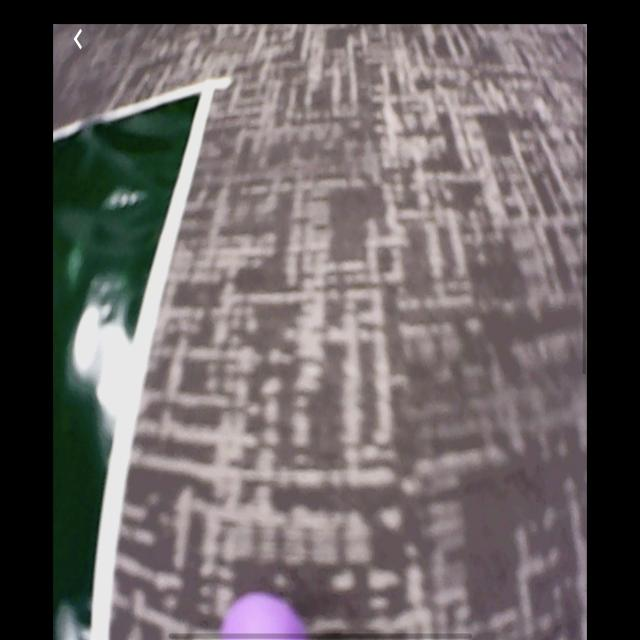ball: (223, 594, 312, 639)
